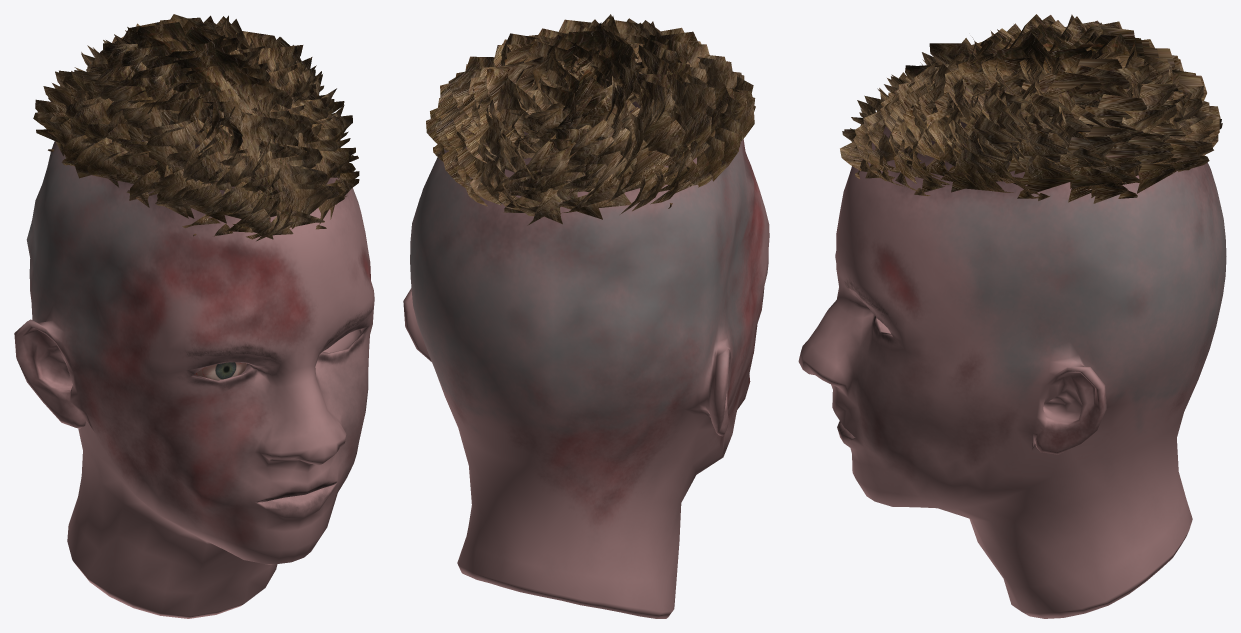
File: ghost.FBX
The picture shows the model from 3 angles, left to right: view 1: azimuth 30°, elevation 25°; view 2: azimuth 150°, elevation 25°; view 3: azimuth 270°, elevation 25°; orthographic projection. The views are drawn at different scales.
Parts seen in each view (by area): view 1: face, hair, eye; view 2: face, hair; view 3: face, hair.
Part boxes in pixels (x1,y1,x2,y2): face: [14, 140, 374, 618]; hair: [33, 14, 359, 241]; eye: [194, 362, 246, 380]; face: [403, 101, 769, 618]; hair: [426, 14, 755, 225]; face: [798, 110, 1226, 618]; hair: [840, 14, 1222, 203].
Size of the model in its own units: 0.1852 by 0.3153 by 0.2166.
3 materials, 3 textured.
